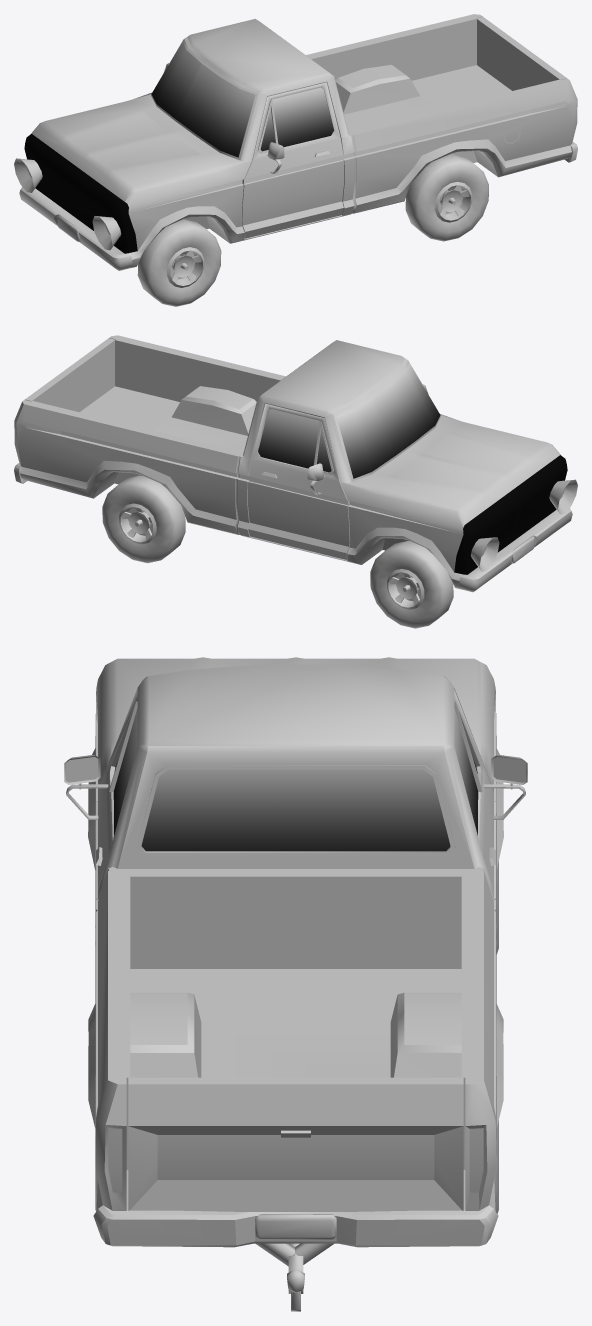
Rendered from TFP_Utility_Pick_Up_01B.fbx.
3 views of the same model, one above another, from view 1: azimuth 30°, elevation 25°; view 2: azimuth 150°, elevation 25°; view 3: azimuth 270°, elevation 25° (orthographic). The views are drawn at different scales.
Visible parts, largest first — view 1: TFP_Utility_Pick_Up_01B_Body_LOD0, TFP_Utility_Pick_Up_01B_Door_L_LOD0, TFP_Utility_Pick_Up_01B_Wheel_R.L_LOD0, TFP_Utility_Pick_Up_01B_Wheel_F.L_LOD0, TFP_Utility_Pick_Up_01B_Tailgate_LOD0, TFP_Utility_Pick_Up_01B_Lights_LOD0; view 2: TFP_Utility_Pick_Up_01B_Body_LOD0, TFP_Utility_Pick_Up_01B_Door_R_LOD0, TFP_Utility_Pick_Up_01B_Wheel_R.R_LOD0, TFP_Utility_Pick_Up_01B_Wheel_F.R_LOD0, TFP_Utility_Pick_Up_01B_Tailgate_LOD0, TFP_Utility_Pick_Up_01B_Lights_LOD0; view 3: TFP_Utility_Pick_Up_01B_Body_LOD0, TFP_Utility_Pick_Up_01B_Tailgate_LOD0, TFP_Utility_Pick_Up_01B_Door_L_LOD0, TFP_Utility_Pick_Up_01B_Door_R_LOD0.
Boxes of the visible parts, <box> form: TFP_Utility_Pick_Up_01B_Body_LOD0: <box>19,14,577,270</box>; TFP_Utility_Pick_Up_01B_Door_L_LOD0: <box>242,82,343,238</box>; TFP_Utility_Pick_Up_01B_Wheel_R.L_LOD0: <box>405,154,488,241</box>; TFP_Utility_Pick_Up_01B_Wheel_F.L_LOD0: <box>137,219,221,306</box>; TFP_Utility_Pick_Up_01B_Tailgate_LOD0: <box>476,17,566,90</box>; TFP_Utility_Pick_Up_01B_Lights_LOD0: <box>14,158,121,250</box>; TFP_Utility_Pick_Up_01B_Body_LOD0: <box>14,335,572,592</box>; TFP_Utility_Pick_Up_01B_Door_R_LOD0: <box>248,403,349,559</box>; TFP_Utility_Pick_Up_01B_Wheel_R.R_LOD0: <box>102,475,185,563</box>; TFP_Utility_Pick_Up_01B_Wheel_F.R_LOD0: <box>370,541,453,628</box>; TFP_Utility_Pick_Up_01B_Tailgate_LOD0: <box>25,338,115,412</box>; TFP_Utility_Pick_Up_01B_Lights_LOD0: <box>471,479,577,571</box>; TFP_Utility_Pick_Up_01B_Body_LOD0: <box>88,657,503,1311</box>; TFP_Utility_Pick_Up_01B_Tailgate_LOD0: <box>128,1077,463,1211</box>; TFP_Utility_Pick_Up_01B_Door_L_LOD0: <box>64,690,137,930</box>; TFP_Utility_Pick_Up_01B_Door_R_LOD0: <box>454,690,527,930</box>.
Size of what is drawn, in the model's own units: 6.02 by 2.22 by 2.46.
